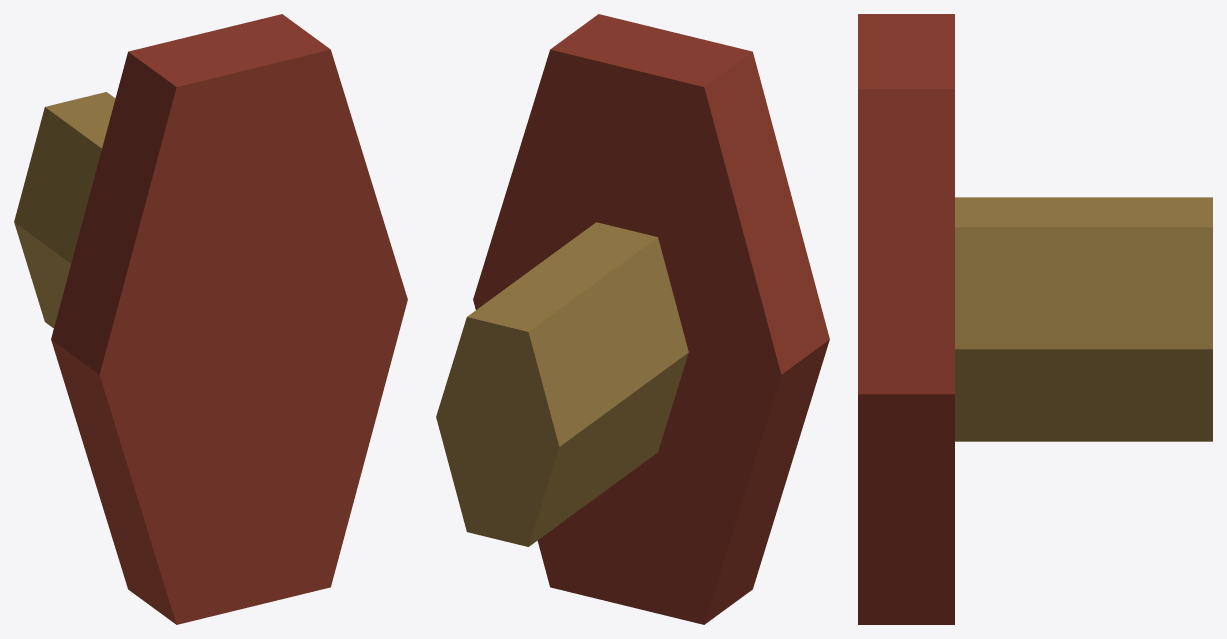
The model's file is FRM_022_E_LODs.fbx.
The picture shows the model from 3 angles, left to right: view 1: azimuth 30°, elevation 25°; view 2: azimuth 150°, elevation 25°; view 3: azimuth 270°, elevation 25°; orthographic projection.
Visible parts, largest first — view 1: FRM_022_E_LOD0; view 2: FRM_022_E_LOD0; view 3: FRM_022_E_LOD0.
Boxes of the visible parts, x1,y1,x2,y2 form: FRM_022_E_LOD0: [14, 14, 407, 624]; FRM_022_E_LOD0: [436, 14, 829, 624]; FRM_022_E_LOD0: [858, 14, 1212, 624].
Size of what is drawn, in the model's own units: 0.015 by 0.025 by 0.015.
